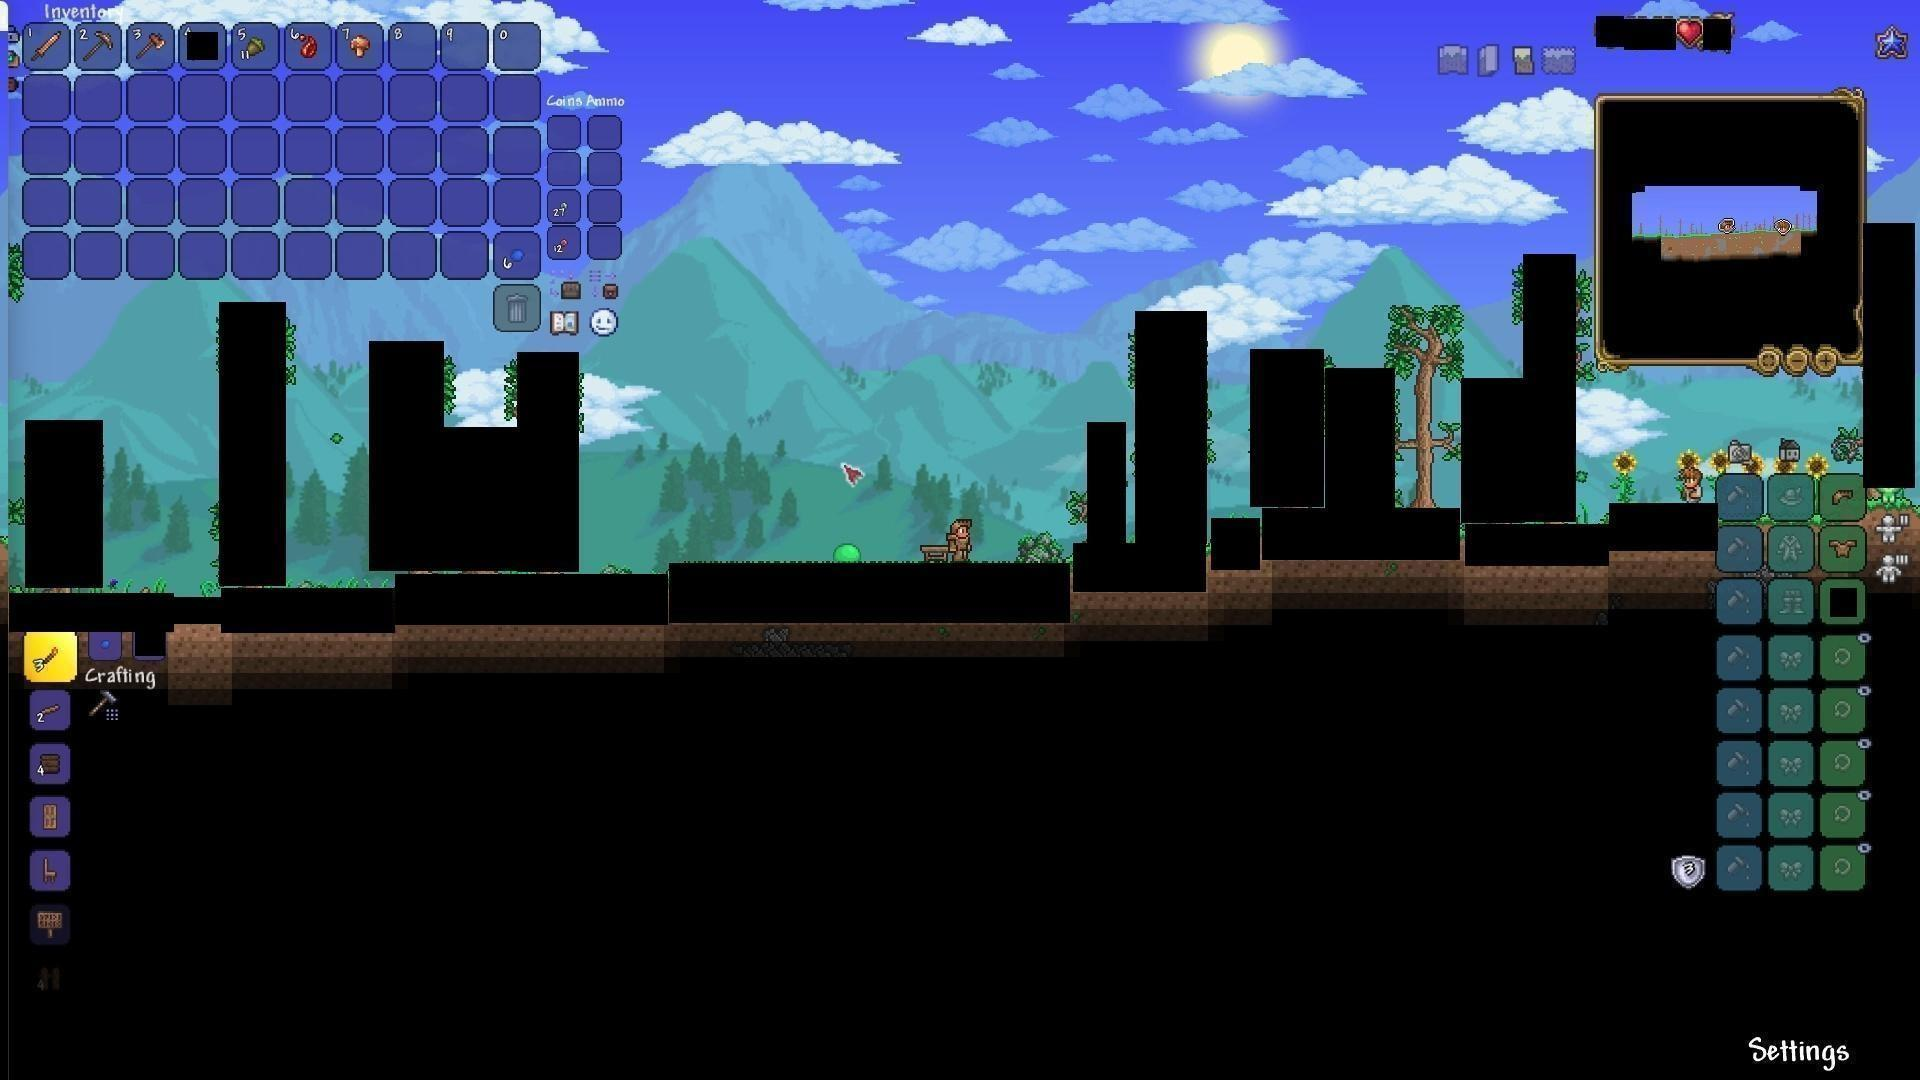breastplate: (1832, 537, 1859, 558)
heart: (1677, 18, 1704, 49)
helmet: (1832, 484, 1859, 508)
slime: (829, 545, 864, 566)
tree: (1389, 295, 1452, 508)
workbench: (916, 541, 953, 564)
